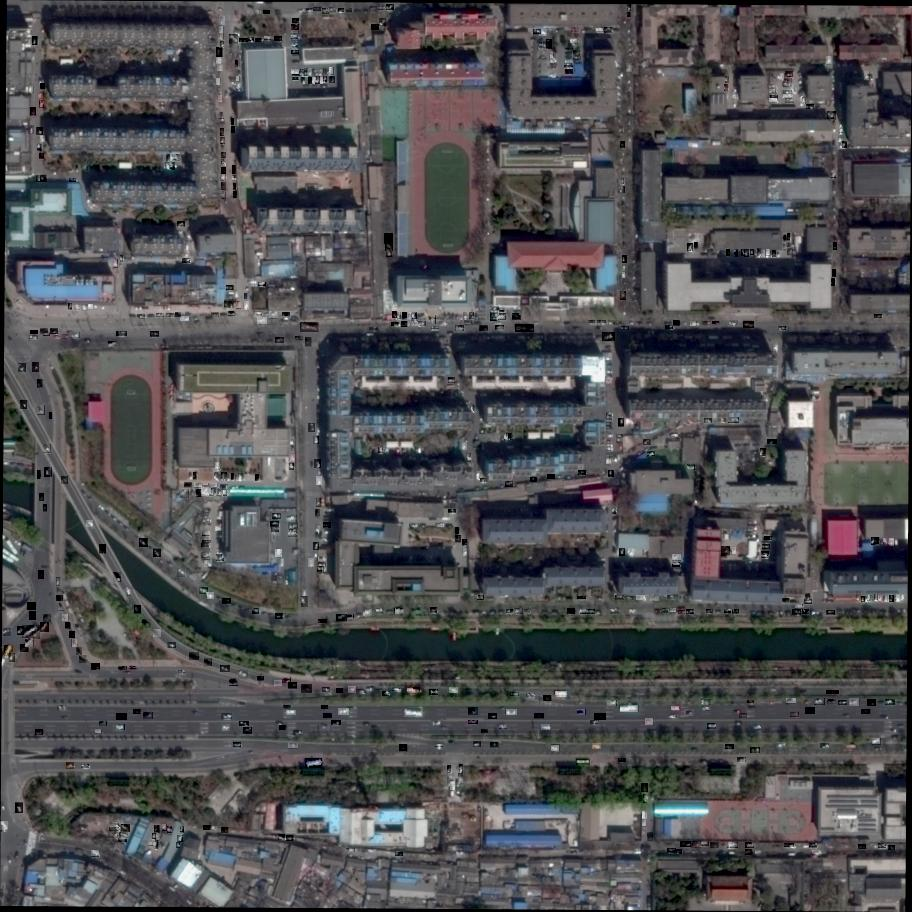large-vehicle: (23, 625, 41, 638), (404, 707, 424, 717), (300, 323, 319, 333), (305, 759, 323, 769), (515, 324, 534, 333), (620, 705, 638, 712), (5, 645, 14, 658), (743, 321, 755, 328), (577, 759, 590, 764), (408, 688, 419, 692), (556, 691, 567, 695), (606, 456, 609, 464)
small-vehicle: (602, 332, 615, 342), (301, 684, 313, 694), (238, 670, 249, 680), (336, 614, 347, 624), (776, 742, 788, 751), (142, 619, 152, 629), (229, 35, 239, 45), (384, 234, 394, 244), (15, 803, 24, 814), (850, 698, 861, 707), (363, 609, 374, 618), (594, 713, 606, 721), (27, 603, 37, 612), (114, 572, 123, 582), (154, 629, 163, 639), (25, 638, 35, 647), (41, 623, 50, 633), (202, 487, 211, 497), (181, 489, 190, 499), (269, 311, 279, 320), (722, 546, 731, 556), (116, 713, 127, 721), (286, 515, 297, 523), (221, 713, 232, 721), (338, 709, 350, 716), (43, 444, 52, 453), (204, 658, 213, 667), (20, 644, 29, 653), (139, 539, 148, 548), (18, 363, 27, 372), (3, 628, 12, 637), (306, 337, 314, 347), (32, 362, 40, 372), (37, 405, 45, 415), (118, 835, 128, 843), (229, 678, 239, 686), (189, 652, 199, 660), (154, 549, 162, 559), (44, 467, 52, 477), (288, 522, 298, 530), (314, 459, 322, 469), (217, 47, 225, 57), (0, 822, 8, 832), (220, 665, 230, 673), (18, 626, 26, 636), (201, 552, 211, 560), (641, 783, 649, 793), (616, 434, 624, 444), (469, 707, 479, 715), (680, 841, 691, 848), (814, 699, 825, 706), (805, 708, 816, 715), (61, 476, 69, 485), (122, 825, 131, 833), (348, 686, 357, 694), (80, 656, 89, 664), (178, 569, 186, 578), (216, 56, 224, 65), (91, 850, 100, 858), (645, 718, 654, 726), (727, 843, 739, 849), (864, 71, 872, 80), (828, 112, 837, 120), (647, 833, 655, 842), (873, 738, 882, 746), (379, 18, 387, 27), (429, 315, 437, 324), (99, 544, 106, 554), (119, 832, 129, 839), (108, 831, 118, 838), (134, 605, 141, 615), (258, 317, 268, 324), (124, 587, 131, 597), (70, 333, 80, 340), (302, 596, 309, 606), (288, 682, 298, 689), (243, 728, 253, 735), (399, 745, 409, 752), (692, 841, 702, 848), (812, 394, 822, 401), (786, 698, 796, 705), (867, 700, 877, 707), (395, 608, 405, 615), (626, 63, 633, 73), (479, 325, 489, 332), (319, 725, 330, 731), (506, 709, 517, 715), (432, 719, 443, 725), (33, 631, 41, 639), (75, 647, 83, 655), (385, 243, 393, 251), (247, 280, 256, 287), (44, 614, 51, 623), (39, 571, 46, 580), (37, 127, 44, 136), (9, 654, 16, 663), (220, 484, 229, 491), (197, 489, 204, 498), (87, 520, 94, 529), (313, 542, 320, 551), (30, 107, 37, 116), (313, 436, 320, 445), (308, 424, 315, 433), (150, 331, 159, 338), (217, 86, 224, 95), (275, 337, 284, 344), (92, 664, 101, 671), (66, 762, 75, 769), (222, 724, 231, 731), (144, 713, 153, 720), (685, 710, 694, 717), (672, 555, 681, 562), (278, 577, 285, 586), (393, 448, 400, 457), (542, 724, 551, 731), (488, 713, 497, 720), (385, 249, 392, 258), (238, 700, 248, 706), (308, 558, 314, 568), (21, 400, 27, 410), (331, 720, 341, 726), (180, 316, 190, 322), (701, 699, 711, 705), (745, 842, 755, 848), (812, 850, 822, 856), (449, 687, 459, 693), (495, 325, 505, 331), (86, 304, 94, 311), (165, 163, 172, 171), (41, 175, 48, 183), (111, 822, 119, 829), (69, 631, 76, 639), (62, 614, 69, 622), (59, 603, 66, 611), (200, 588, 208, 595), (204, 560, 212, 567), (207, 592, 215, 599), (252, 608, 260, 615), (730, 320, 738, 327), (787, 247, 794, 255), (605, 412, 612, 420), (574, 51, 582, 58), (540, 29, 548, 36), (37, 379, 43, 388), (108, 341, 117, 347), (215, 488, 221, 497), (29, 126, 35, 135), (323, 713, 332, 719), (274, 680, 283, 686), (272, 514, 281, 520), (316, 476, 322, 485), (276, 549, 282, 558), (290, 454, 296, 463), (291, 69, 300, 75), (50, 329, 59, 335), (220, 17, 226, 26), (322, 687, 331, 693), (282, 677, 291, 683), (168, 643, 177, 649), (650, 596, 659, 602), (710, 842, 719, 848), (737, 757, 746, 763), (630, 548, 636, 557), (704, 418, 713, 424), (783, 79, 792, 85), (820, 743, 829, 749), (462, 442, 468, 451), (505, 482, 514, 488), (543, 696, 552, 702), (546, 40, 552, 49), (688, 243, 694, 252), (369, 7, 378, 13), (455, 326, 464, 332), (239, 38, 249, 43), (728, 417, 738, 422), (861, 710, 871, 715), (81, 304, 88, 311), (322, 8, 329, 15), (644, 439, 651, 446), (236, 300, 242, 308), (30, 612, 36, 620), (99, 721, 107, 727), (203, 825, 211, 831), (72, 639, 78, 647), (318, 555, 326, 561), (212, 312, 220, 318), (292, 18, 300, 24), (325, 68, 331, 76), (217, 64, 223, 72), (291, 25, 299, 31), (298, 9, 306, 15), (275, 613, 283, 619), (473, 741, 481, 747), (703, 705, 711, 711), (647, 451, 655, 457), (782, 242, 788, 250), (619, 548, 625, 556), (745, 849, 753, 855), (668, 848, 676, 854), (785, 71, 793, 77), (186, 311, 194, 317), (831, 170, 837, 178), (889, 538, 895, 546), (805, 593, 811, 601), (448, 377, 456, 383), (618, 418, 624, 426), (578, 710, 586, 716), (593, 743, 601, 749), (551, 745, 559, 751), (621, 292, 627, 300), (393, 311, 399, 319), (387, 5, 395, 11), (469, 312, 475, 320), (271, 527, 280, 532), (177, 222, 186, 227), (220, 128, 225, 137), (110, 828, 119, 833), (289, 743, 298, 748), (289, 528, 298, 533), (56, 577, 61, 586), (287, 710, 296, 715), (636, 595, 645, 600), (827, 56, 832, 65), (885, 700, 894, 705), (838, 700, 847, 705), (533, 30, 542, 35), (490, 313, 499, 318), (608, 320, 617, 325), (74, 304, 80, 311), (169, 163, 175, 170), (221, 167, 227, 174), (220, 138, 226, 145), (150, 840, 156, 847), (457, 851, 464, 857), (278, 835, 285, 841), (222, 828, 229, 834), (177, 835, 183, 842), (65, 622, 71, 629), (215, 463, 221, 470), (329, 8, 336, 14), (133, 709, 140, 715), (215, 526, 222, 532), (856, 595, 862, 602), (480, 428, 486, 435), (384, 448, 390, 455), (367, 686, 374, 692), (401, 322, 408, 328), (513, 315, 520, 321), (31, 330, 39, 335), (224, 299, 229, 307), (233, 299, 238, 307), (244, 301, 249, 309), (40, 493, 45, 501), (166, 154, 171, 162), (212, 488, 217, 496), (286, 836, 294, 841), (330, 76, 335, 84), (318, 562, 326, 567), (316, 498, 321, 506), (315, 525, 320, 533), (290, 437, 295, 445), (315, 77, 320, 85), (275, 37, 283, 42), (294, 730, 302, 735), (282, 312, 290, 317), (223, 599, 231, 604), (233, 742, 241, 747), (117, 725, 125, 730), (36, 730, 44, 735), (708, 723, 716, 728), (725, 744, 733, 749), (762, 544, 770, 549), (768, 439, 776, 444), (784, 83, 792, 88), (781, 73, 786, 81), (235, 10, 240, 18), (828, 700, 836, 705), (888, 845, 896, 850), (896, 594, 901, 602), (889, 595, 894, 603), (466, 454, 471, 462), (606, 376, 611, 384), (587, 609, 595, 614), (567, 608, 575, 613), (608, 701, 616, 706), (565, 48, 573, 53), (745, 249, 750, 257), (372, 25, 380, 30), (418, 322, 426, 327), (826, 691, 839, 694), (230, 299, 234, 308), (451, 781, 455, 790), (318, 566, 324, 572), (29, 335, 38, 339), (751, 748, 760, 752), (806, 105, 815, 109), (792, 610, 801, 614), (535, 714, 544, 718), (429, 690, 438, 694), (54, 334, 61, 339), (323, 522, 330, 527), (176, 154, 181, 161), (40, 135, 45, 142), (221, 152, 226, 159), (57, 595, 62, 602), (315, 69, 320, 76), (319, 70, 324, 77), (302, 589, 307, 596), (216, 78, 221, 85), (312, 77, 317, 84), (306, 8, 313, 13), (626, 596, 633, 601), (773, 344, 778, 351), (688, 465, 695, 470), (686, 609, 693, 614), (760, 449, 765, 456), (782, 598, 789, 603), (175, 312, 182, 317), (843, 141, 848, 148), (879, 595, 884, 602), (456, 536, 461, 543), (606, 444, 611, 451), (378, 447, 383, 454), (757, 249, 762, 256), (376, 608, 383, 613), (566, 59, 573, 64), (549, 73, 556, 78), (750, 249, 755, 256), (405, 312, 410, 319), (271, 522, 279, 526), (222, 182, 226, 190), (459, 765, 463, 773), (222, 473, 226, 481), (123, 671, 131, 675), (33, 37, 37, 45), (291, 50, 299, 54), (202, 531, 210, 535), (733, 710, 741, 714), (753, 725, 761, 729), (621, 326, 629, 330), (672, 434, 680, 438), (784, 91, 792, 95), (810, 844, 818, 848), (858, 845, 866, 849), (878, 844, 886, 848), (804, 600, 812, 604), (480, 479, 488, 483), (571, 28, 579, 32), (573, 56, 581, 60), (565, 70, 573, 74), (438, 322, 446, 326), (40, 83, 45, 89), (138, 314, 144, 319), (117, 332, 127, 335), (315, 510, 320, 516), (462, 539, 467, 545), (41, 329, 48, 333), (37, 175, 41, 182), (183, 258, 190, 262), (155, 825, 159, 832), (347, 848, 354, 852), (396, 852, 403, 856), (369, 849, 376, 853), (257, 676, 264, 680), (184, 483, 191, 487), (195, 483, 202, 487), (119, 666, 126, 670), (319, 77, 323, 84), (226, 286, 233, 290), (314, 8, 321, 12), (701, 841, 708, 845), (712, 321, 719, 325), (779, 326, 786, 330), (784, 94, 791, 98), (769, 85, 776, 89), (832, 269, 836, 276), (838, 135, 842, 142), (901, 595, 905, 602), (795, 604, 802, 608), (783, 234, 787, 241), (491, 743, 498, 747), (463, 549, 467, 556), (616, 595, 623, 599), (508, 433, 512, 440), (547, 475, 554, 479), (359, 689, 366, 693), (506, 609, 513, 613), (515, 609, 522, 613), (611, 609, 618, 613), (391, 322, 398, 326), (564, 63, 571, 67), (627, 4, 631, 11), (726, 249, 730, 256), (491, 306, 498, 310), (459, 313, 463, 320), (37, 470, 40, 479), (166, 314, 175, 317), (785, 844, 794, 847), (785, 99, 794, 102), (410, 524, 419, 527), (468, 720, 477, 723), (213, 483, 218, 488), (238, 474, 243, 479), (674, 320, 679, 325), (63, 334, 69, 338), (258, 283, 266, 286), (40, 153, 44, 159), (37, 144, 41, 150), (40, 101, 44, 107), (39, 92, 43, 98), (114, 259, 117, 267), (232, 166, 235, 174), (220, 112, 224, 118), (152, 834, 156, 840), (155, 841, 158, 849), (279, 726, 285, 730), (448, 765, 451, 773), (168, 826, 172, 832), (176, 842, 180, 848), (290, 464, 294, 470), (288, 533, 296, 536), (308, 68, 312, 74), (254, 312, 262, 315), (318, 620, 326, 623), (237, 70, 241, 76), (219, 34, 223, 40), (201, 544, 209, 547), (240, 722, 248, 725), (58, 706, 66, 709), (203, 518, 209, 522), (669, 715, 677, 718), (755, 850, 761, 854), (642, 820, 646, 826), (642, 811, 645, 819), (644, 794, 647, 802), (678, 610, 684, 614), (766, 249, 770, 255), (702, 322, 710, 325), (733, 609, 739, 613), (672, 563, 680, 566), (769, 99, 777, 102), (770, 95, 778, 98), (875, 314, 881, 318), (264, 10, 270, 14), (791, 599, 797, 603), (764, 537, 772, 540), (790, 713, 798, 716), (827, 611, 835, 614), (872, 537, 875, 545), (861, 596, 865, 602), (448, 509, 456, 512), (436, 523, 442, 527), (530, 478, 536, 482), (591, 721, 599, 724), (482, 729, 488, 733), (431, 608, 437, 612), (538, 42, 541, 50), (605, 28, 611, 32), (741, 249, 745, 255), (622, 272, 626, 278), (623, 255, 626, 263), (513, 313, 519, 317), (463, 313, 467, 319), (408, 312, 411, 320), (49, 412, 52, 419), (69, 179, 76, 182), (223, 191, 226, 198), (232, 126, 235, 133), (321, 705, 328, 708), (336, 689, 343, 692), (231, 473, 234, 480), (228, 312, 235, 315), (301, 69, 304, 76), (157, 314, 164, 317), (672, 707, 679, 710), (668, 596, 675, 599), (666, 325, 673, 328), (762, 552, 769, 555), (733, 547, 736, 554), (719, 418, 726, 421), (733, 92, 736, 99), (255, 10, 262, 13), (832, 279, 835, 286), (834, 243, 837, 250), (762, 250, 765, 257), (578, 471, 585, 474), (393, 688, 400, 691), (500, 725, 507, 728), (570, 40, 577, 43), (543, 41, 546, 48), (734, 249, 737, 256), (621, 186, 624, 193), (491, 310, 498, 313), (96, 729, 101, 733), (237, 84, 241, 89), (220, 42, 224, 47), (301, 78, 305, 83), (256, 38, 261, 42), (671, 608, 676, 612), (691, 322, 696, 326), (609, 471, 613, 476), (874, 595, 878, 600), (811, 611, 816, 615), (348, 615, 353, 619), (694, 243, 698, 248), (622, 265, 626, 270), (620, 160, 624, 165), (621, 142, 625, 147), (369, 327, 378, 329), (69, 303, 72, 309), (44, 505, 47, 511), (30, 86, 33, 92), (222, 174, 225, 180), (163, 824, 166, 830), (212, 827, 218, 830), (181, 826, 184, 832), (215, 472, 218, 478), (292, 77, 298, 80), (293, 72, 299, 75), (330, 68, 333, 74), (219, 96, 222, 102), (220, 27, 223, 33), (338, 9, 344, 12), (346, 9, 352, 12), (740, 714, 746, 717), (707, 610, 713, 613), (629, 610, 635, 613), (619, 758, 625, 761), (787, 234, 790, 240), (803, 97, 806, 103), (803, 610, 809, 613), (456, 528, 459, 534), (471, 405, 474, 411), (607, 422, 610, 428), (383, 692, 389, 695), (550, 52, 553, 58), (619, 127, 622, 133), (499, 316, 505, 319), (465, 321, 471, 324), (398, 313, 401, 319), (597, 321, 606, 323), (413, 312, 416, 318), (323, 77, 327, 81), (178, 671, 186, 673), (203, 541, 211, 543), (435, 744, 443, 746), (663, 609, 667, 613), (839, 128, 843, 132), (578, 597, 586, 599), (526, 694, 534, 696), (511, 693, 519, 695), (431, 327, 439, 329), (221, 145, 224, 150), (459, 773, 462, 778), (217, 555, 222, 558), (236, 76, 239, 81), (248, 37, 253, 40), (677, 850, 682, 853), (770, 90, 775, 93), (868, 596, 871, 601), (477, 472, 480, 477), (478, 596, 483, 599), (525, 609, 530, 612), (581, 610, 586, 613), (491, 318, 496, 321), (402, 313, 405, 318), (295, 337, 302, 339), (121, 255, 123, 262), (234, 191, 236, 198), (194, 472, 196, 479), (209, 488, 211, 495), (305, 69, 307, 76), (81, 765, 88, 767), (724, 610, 731, 612), (886, 595, 888, 602), (378, 7, 385, 9), (588, 321, 595, 323), (232, 118, 234, 124), (234, 183, 236, 189), (220, 490, 222, 496), (265, 37, 271, 39), (747, 700, 753, 702), (773, 250, 775, 256), (725, 84, 727, 90), (876, 538, 878, 544), (613, 507, 615, 513), (597, 29, 603, 31), (500, 313, 506, 315), (245, 294, 247, 299), (233, 176, 235, 181), (256, 475, 258, 480), (203, 483, 208, 485), (224, 490, 226, 495), (292, 36, 297, 38), (292, 45, 297, 47), (235, 61, 237, 66), (309, 78, 311, 83), (726, 77, 728, 82), (884, 539, 886, 544), (504, 434, 506, 439), (412, 321, 417, 323), (622, 178, 624, 183), (174, 156, 177, 159), (222, 160, 224, 164), (283, 706, 291, 707), (792, 87, 794, 91), (606, 544, 608, 548), (565, 66, 573, 67), (628, 13, 630, 17), (500, 310, 504, 312), (130, 667, 137, 668), (216, 559, 223, 560), (291, 32, 298, 33), (171, 155, 172, 161), (44, 334, 49, 335), (762, 556, 767, 557)
